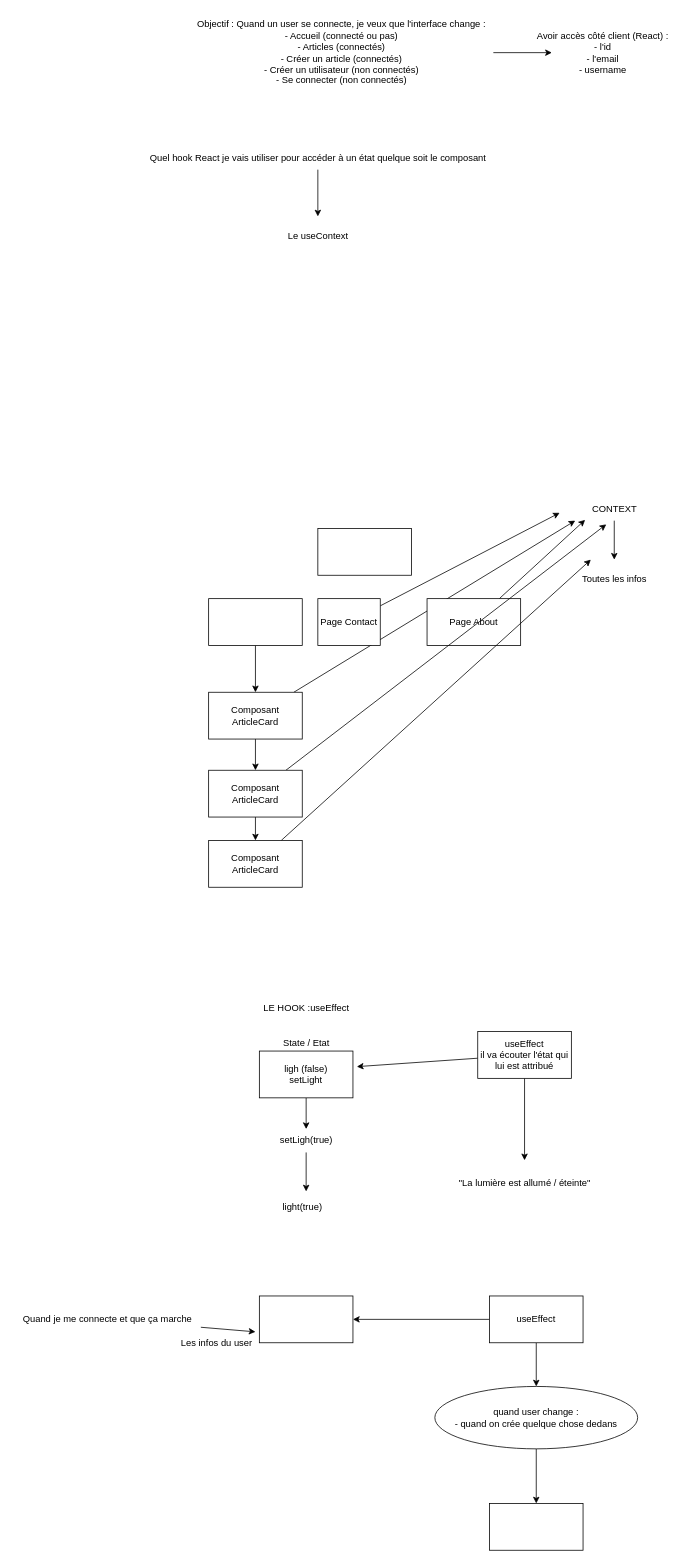
The diagram is 690 pixels wide and 1564 high, and some of its shapes have lost their labels. Here are the shapes that lost their labels. From the top down, the box of each, then its label:
(317, 528, 411, 575): REACT APP
(208, 598, 302, 645): Page Shop
(259, 1295, 353, 1343): user (vide) setUser
(489, 1503, 583, 1550): On va récupérer ce qu'il y a dans user et l'enregistrer dans le local storage
